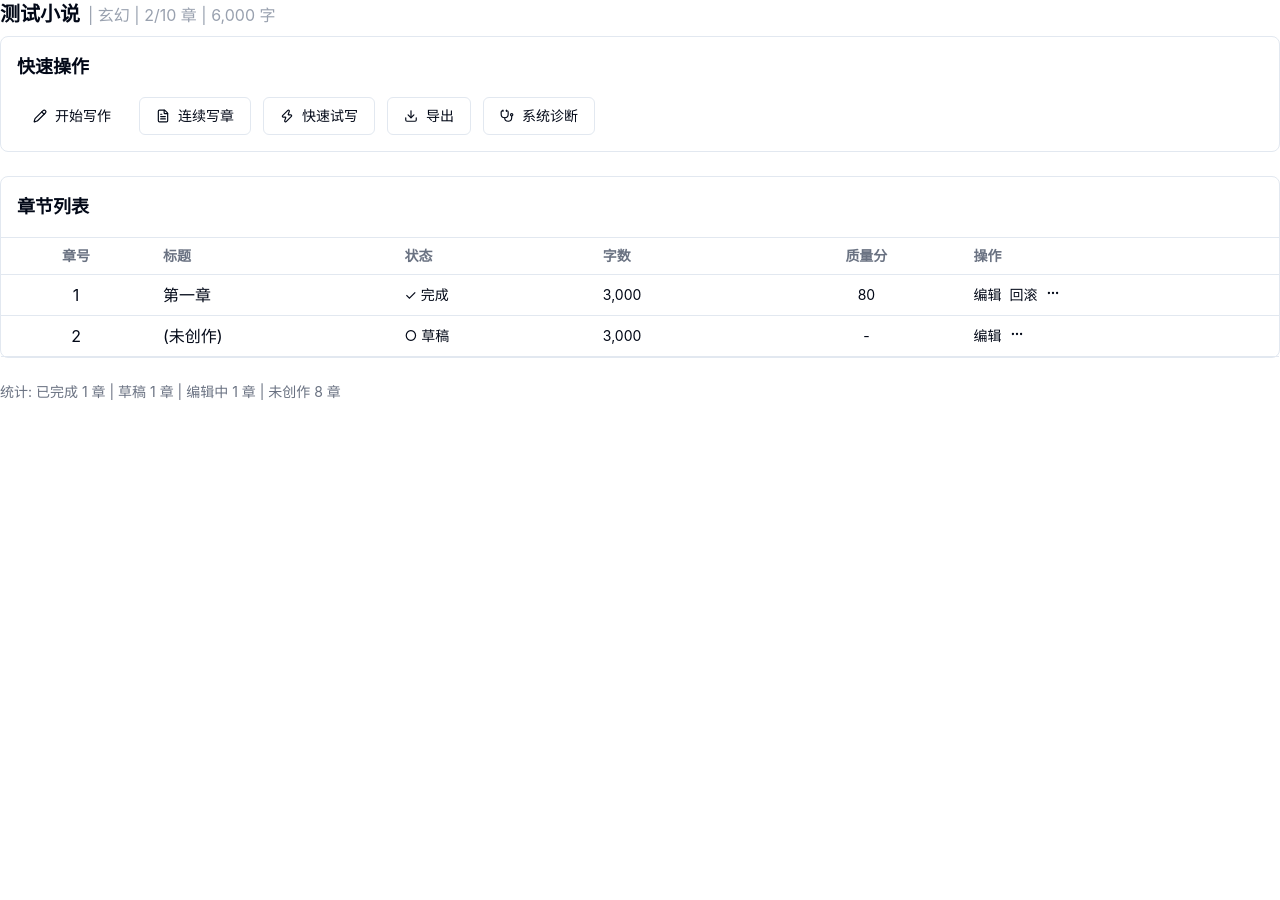
Scenario: BookDetail Page › shows split dialog with paragraph slider before splitting
Expected: the link "第一章" is shown, left=163, top=285, right=211, bottom=305
Click the button titled "更多操作" in the row of "第一章" at point(1053, 293), box left=1046, top=286, right=1060, bottom=300
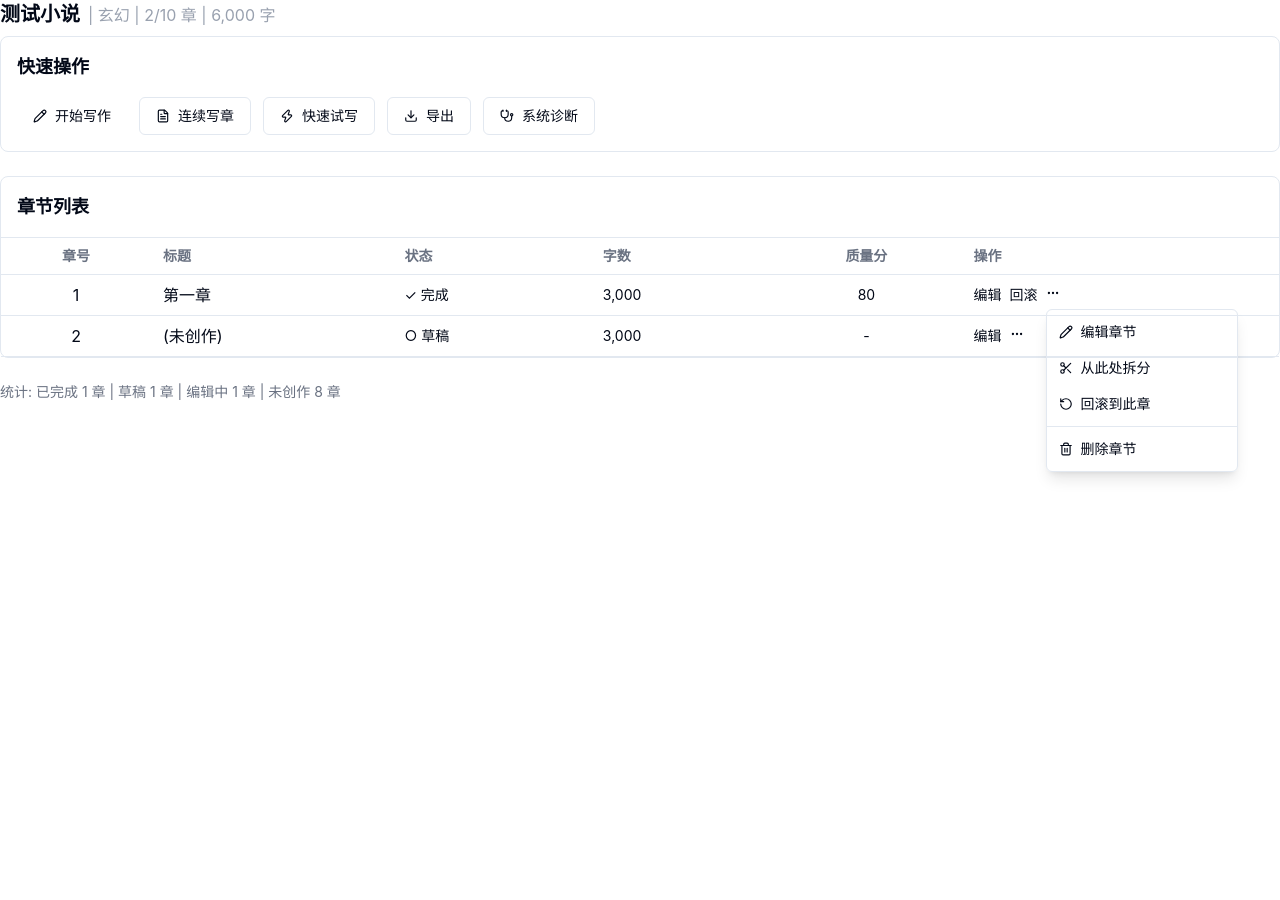
Click the button "从此处拆分" at point(1142, 368), box left=1047, top=350, right=1237, bottom=386
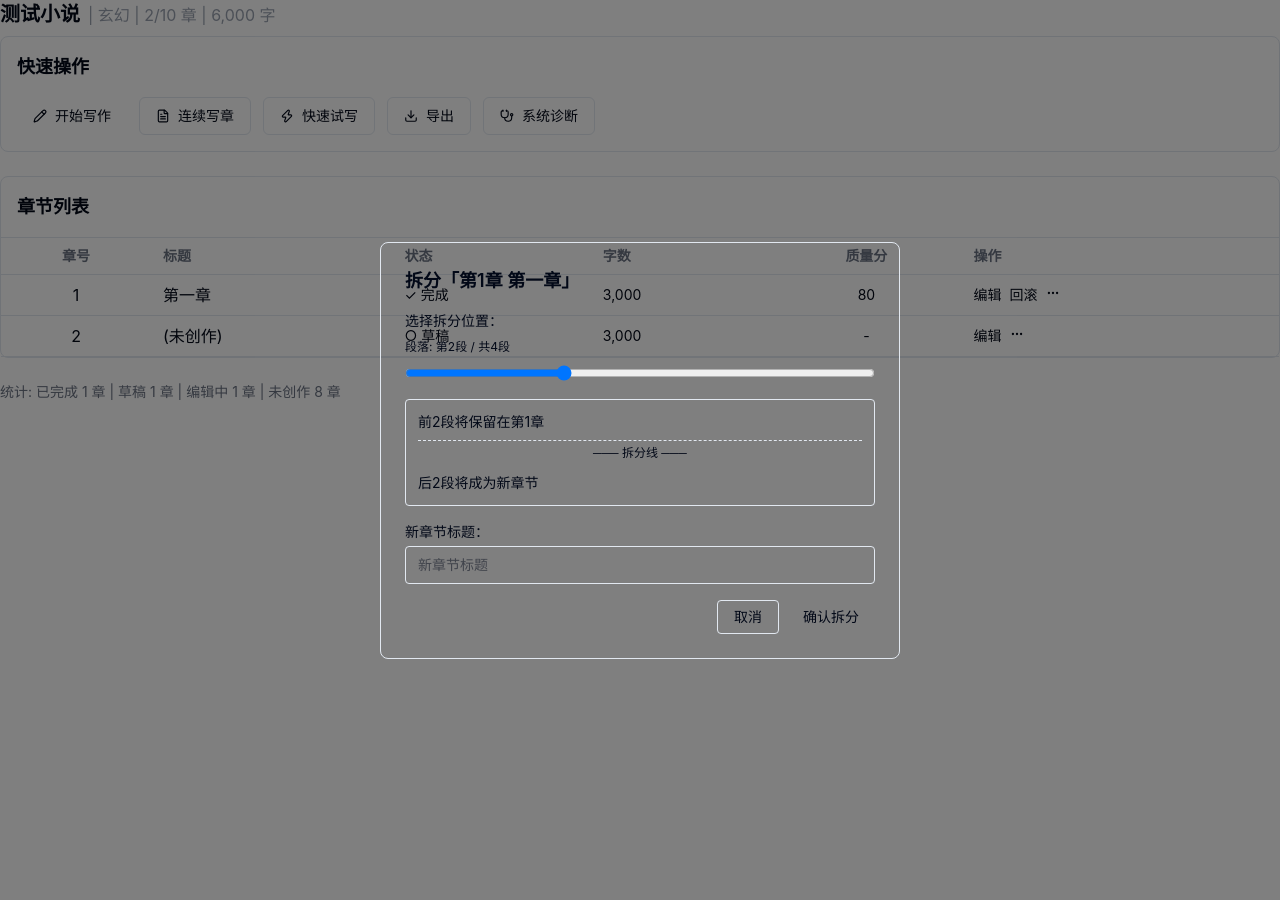
Expected: the text "拆分" is shown, left=405, top=270, right=477, bottom=290
Expected: the text "选择拆分位置" is shown, left=405, top=312, right=503, bottom=328
